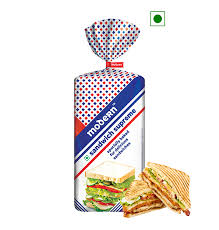bread: (61, 19, 171, 224)
